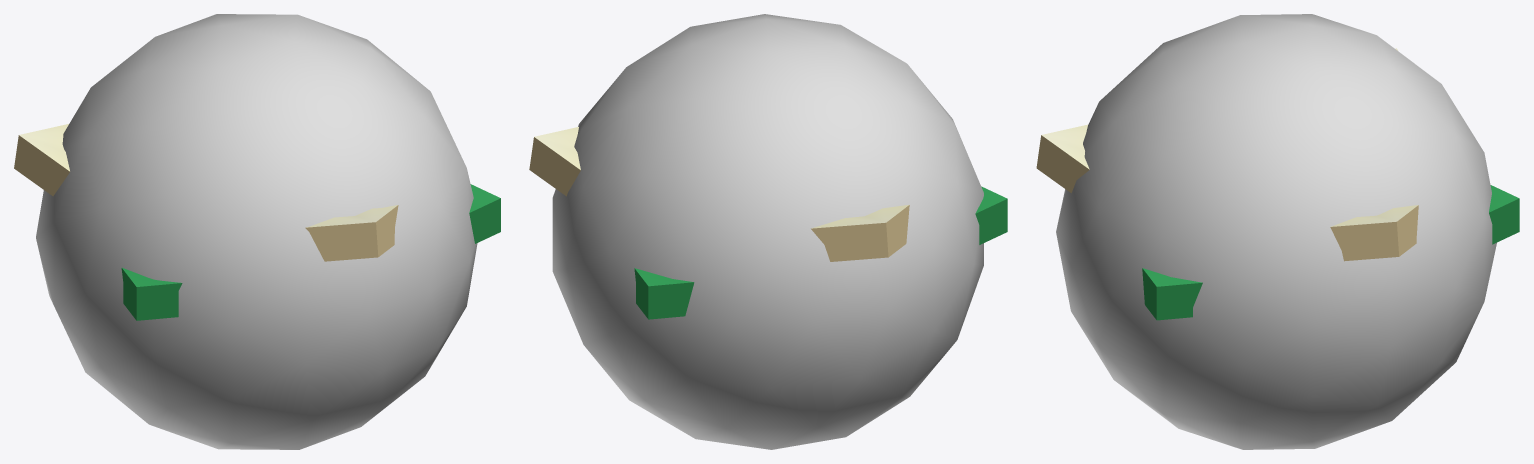
The model's file is BG_013_flower.FBX.
3 views of the same model, side by side, from view 1: azimuth 30°, elevation 25°; view 2: azimuth 150°, elevation 25°; view 3: azimuth 270°, elevation 25° (orthographic).
Visible parts, largest first — view 1: Sphere, BG_013_folwer, flower_001; view 2: Sphere, BG_013_folwer, flower_001; view 3: Sphere, BG_013_folwer, flower_001.
Boxes of the visible parts, x1=… form: Sphere: x1=36, y1=14, x2=477, y2=449; BG_013_folwer: x1=14, y1=124, x2=398, y2=261; flower_001: x1=121, y1=184, x2=500, y2=320; Sphere: x1=552, y1=14, x2=983, y2=449; BG_013_folwer: x1=529, y1=127, x2=909, y2=261; flower_001: x1=634, y1=186, x2=1007, y2=319; Sphere: x1=1056, y1=14, x2=1496, y2=449; BG_013_folwer: x1=1036, y1=48, x2=1418, y2=261; flower_001: x1=1142, y1=185, x2=1519, y2=320.
Size of the model in its own units: 98.55 by 98.3 by 109.
